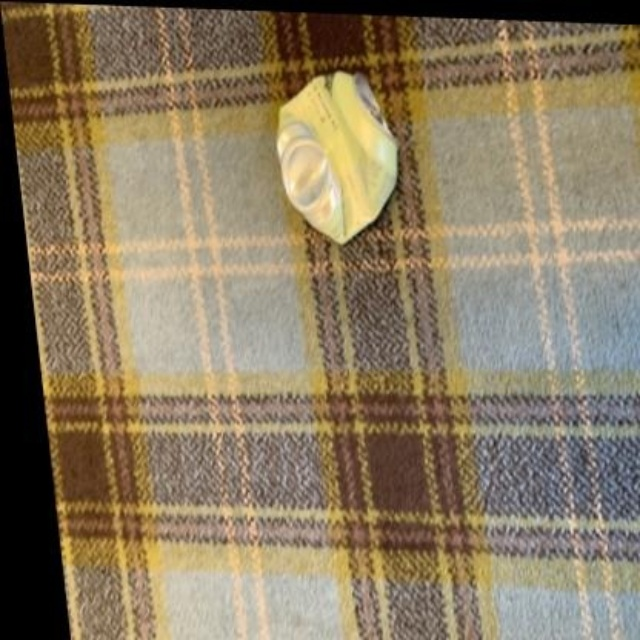trash: (277, 72, 395, 243)
